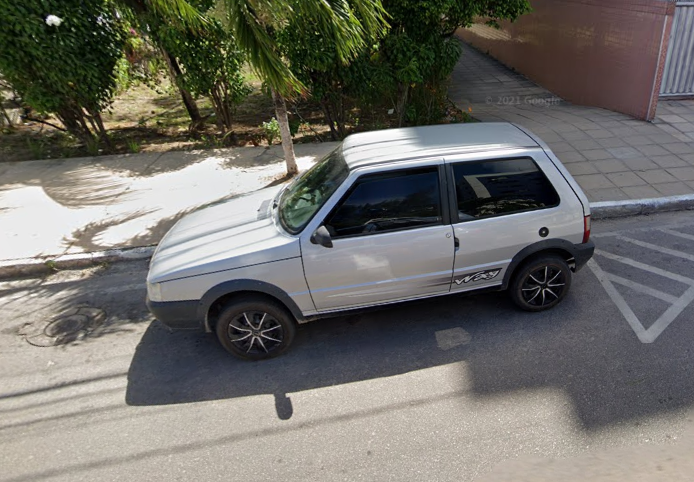car: (144, 120, 598, 364)
